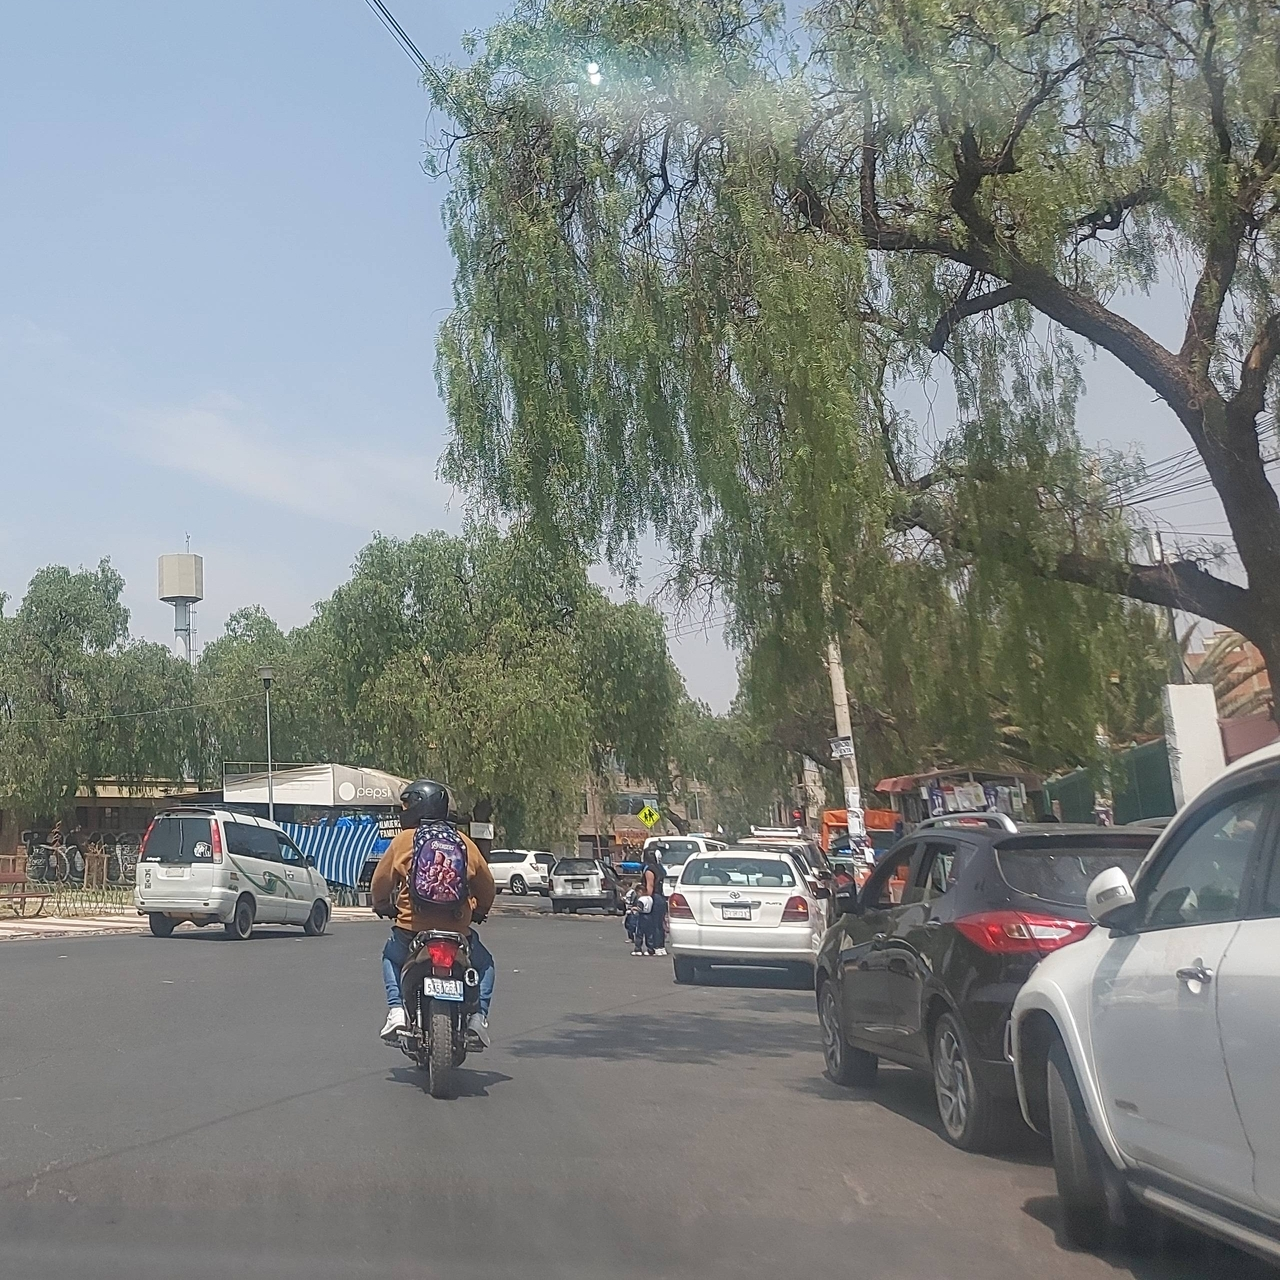zona-escolar: (636, 802, 665, 832)
